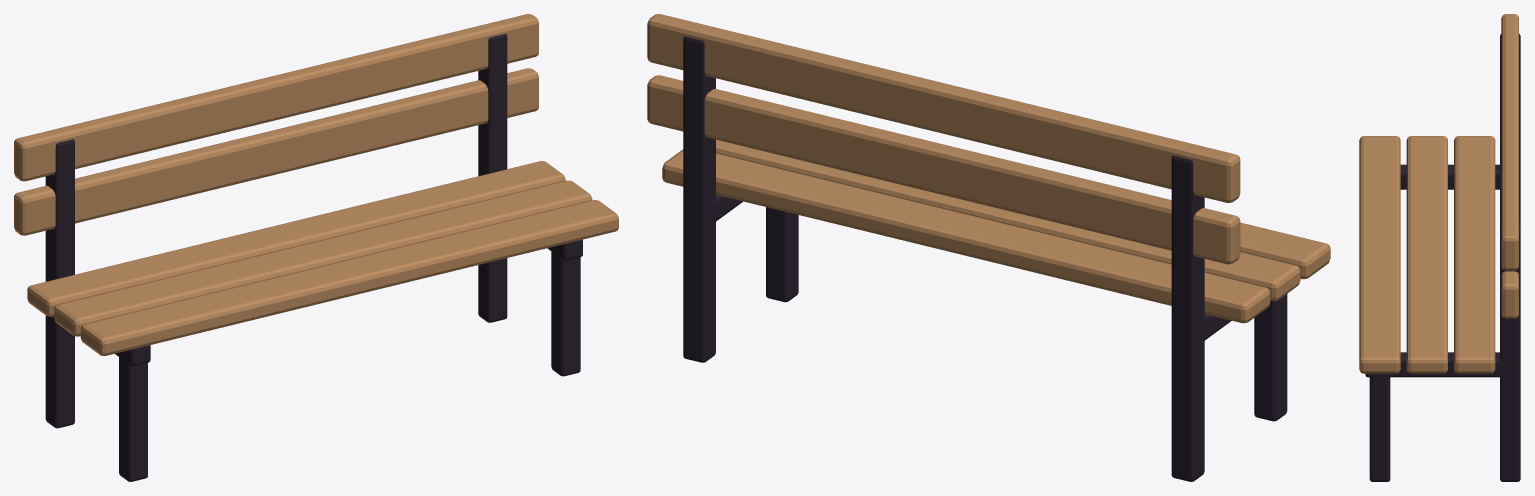
File: bench.glb
3 renders of one model, left to right at view 1: azimuth 30°, elevation 25°; view 2: azimuth 150°, elevation 25°; view 3: azimuth 270°, elevation 25°, orthographic. The views are drawn at different scales.
Parts seen in each view (by area): view 1: bench; view 2: bench; view 3: bench.
Boxes of the visible parts, box(x1,y1,x2,y2) form: bench: box(14, 14, 618, 481); bench: box(647, 14, 1330, 481); bench: box(1359, 14, 1520, 481).
Bounding box in the file's own units: 1.8 × 0.97 × 0.545.
